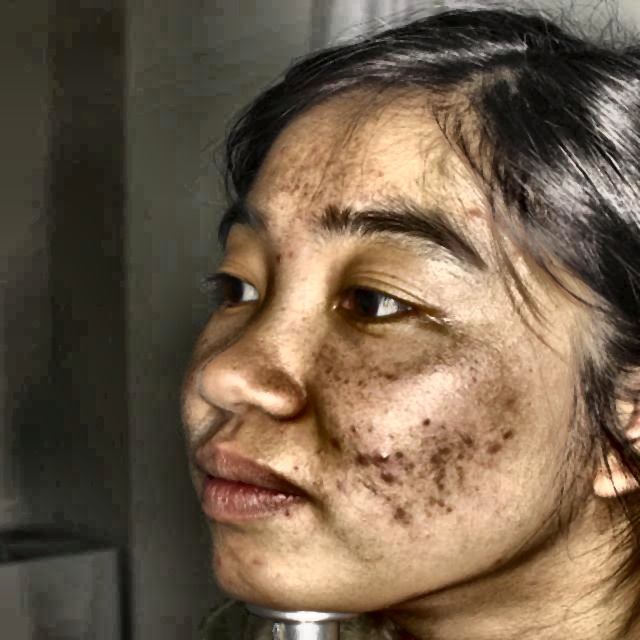pustule: (270, 241, 309, 279), (231, 543, 265, 576), (462, 197, 488, 236), (371, 446, 405, 468), (330, 428, 352, 461), (385, 503, 415, 525), (483, 434, 506, 461), (374, 468, 413, 482), (353, 441, 374, 465), (207, 551, 230, 570), (424, 444, 448, 462), (430, 464, 450, 484)
